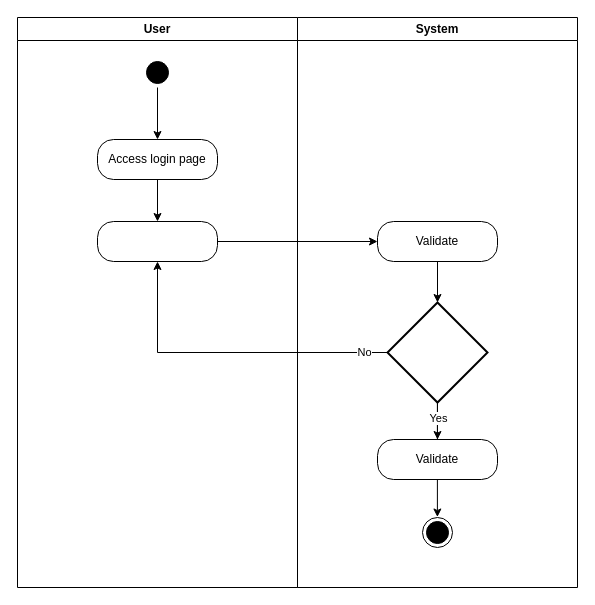
Image size: 595x605. Some labels were removed from this diagram. The box of each missing label's shape, as (x1, y1, x2, y2) in pixels:
Enter Username, Password, Role: (96, 220, 218, 262)
Valid?: (386, 301, 488, 403)
